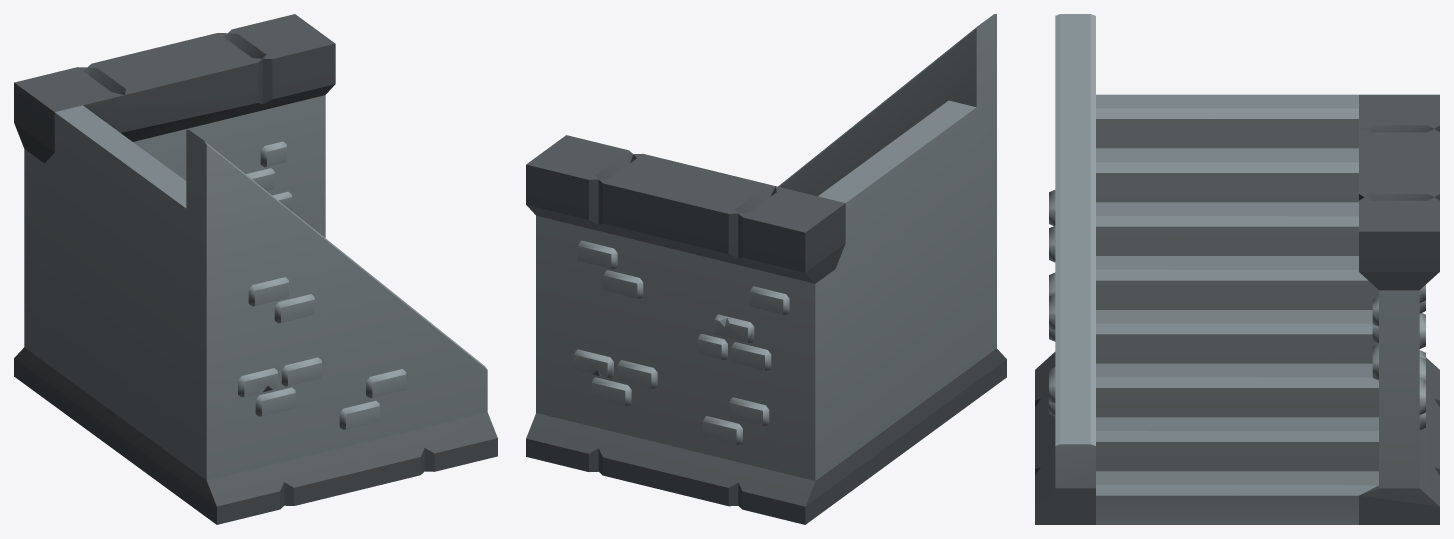
Rendered from stairs_wall_left.glb.
The picture shows the model from 3 angles, left to right: view 1: azimuth 30°, elevation 25°; view 2: azimuth 150°, elevation 25°; view 3: azimuth 270°, elevation 25°; orthographic projection.
Parts seen in each view (by area): view 1: stairs_wall_left; view 2: stairs_wall_left; view 3: stairs_wall_left.
Boxes of the visible parts, x1,y1,x2,y2 form: stairs_wall_left: (14, 14, 497, 524); stairs_wall_left: (526, 14, 1006, 524); stairs_wall_left: (1035, 14, 1439, 524).
Size of the model in its own units: 4 by 5.1 by 5.
1 material, 1 textured.
